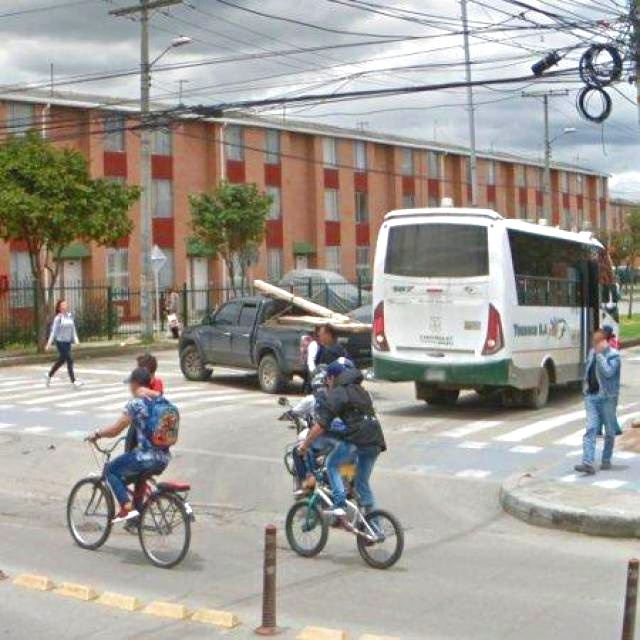bicycle: (51, 432, 205, 578), (277, 452, 414, 585)
bus: (355, 201, 629, 403)
car: (149, 264, 355, 395)
